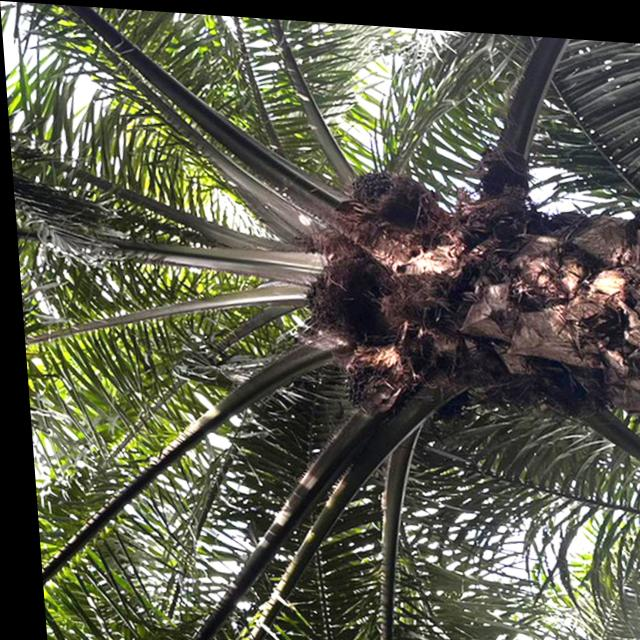unripe: (332, 333, 407, 419), (345, 158, 404, 211)
